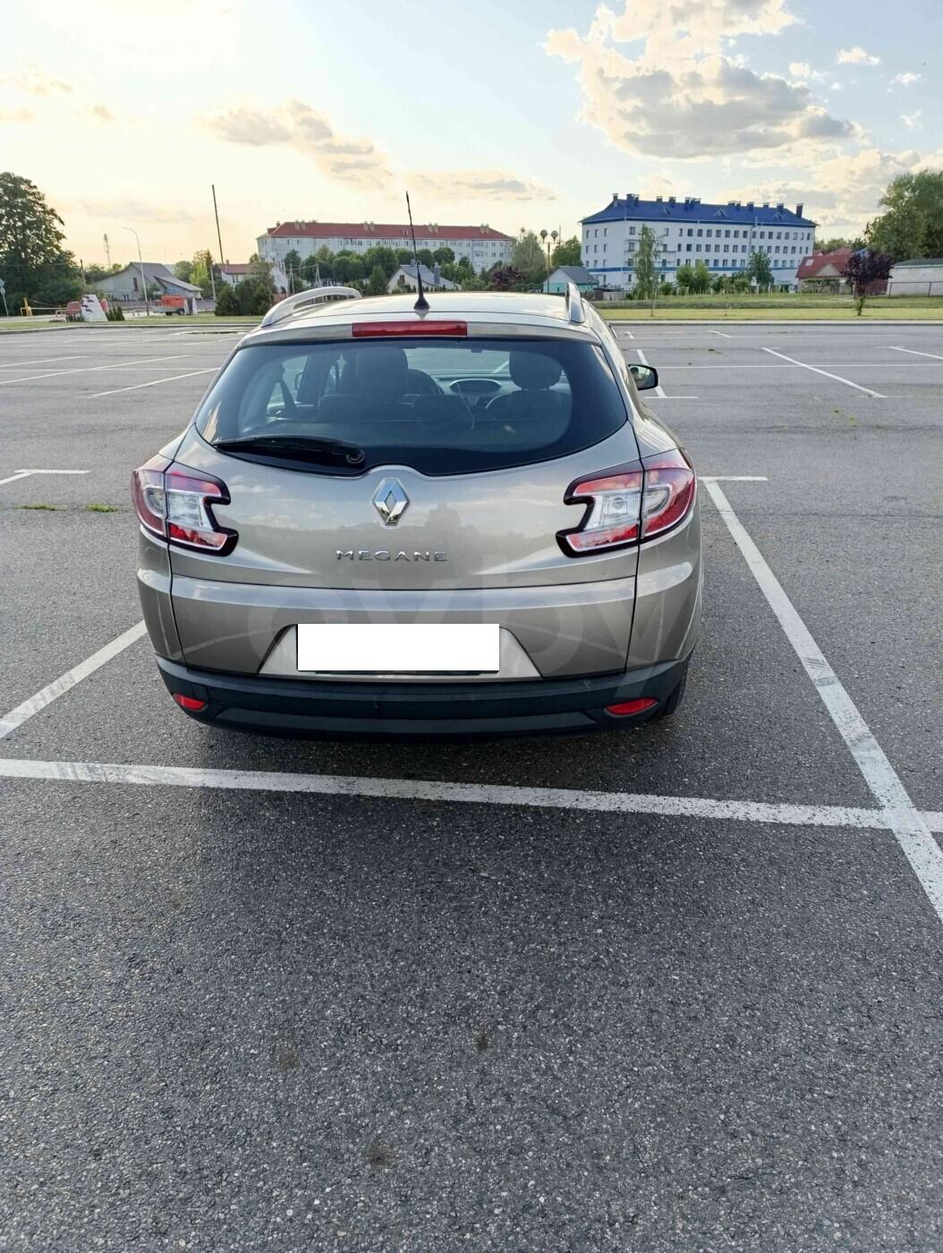Megane_2012-2014: (141, 288, 703, 763)
